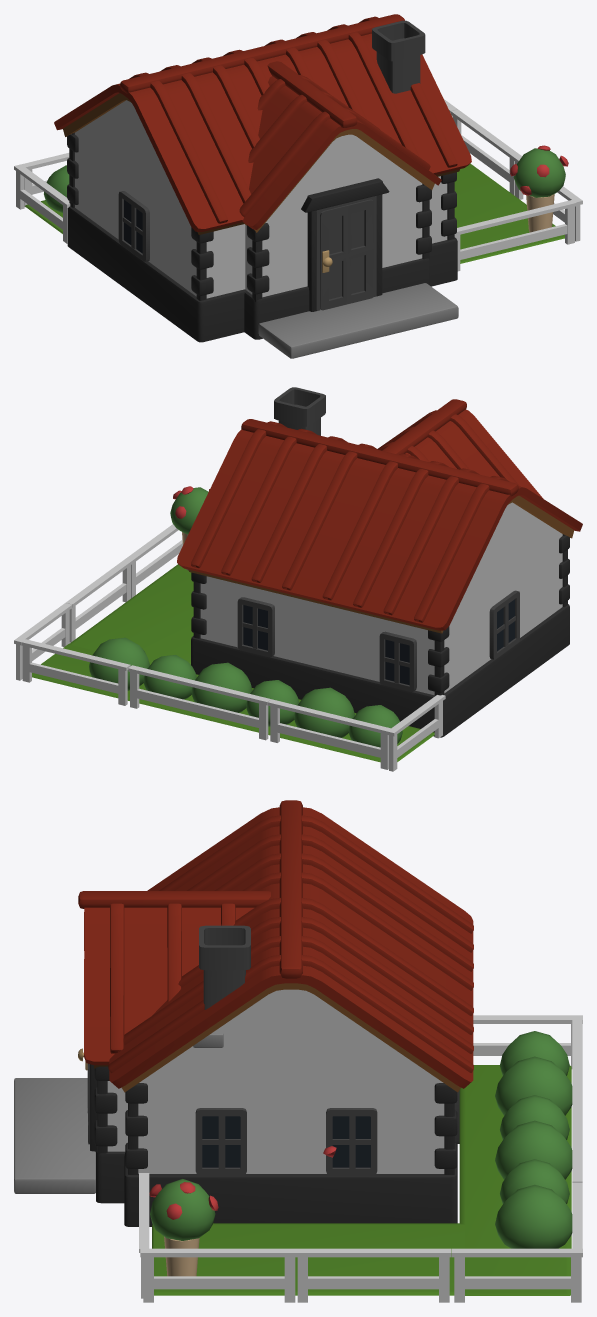
The model's file is SM_house_cute_01.fbx.
3 views of the same model, one above another, from view 1: azimuth 30°, elevation 25°; view 2: azimuth 150°, elevation 25°; view 3: azimuth 270°, elevation 25° (orthographic). The views are drawn at different scales.
Visible parts, largest first — view 1: Box320; view 2: Box320; view 3: Box320.
Boxes of the visible parts, left/top/right/bottom form: Box320: left=14, top=14, right=582, bottom=358; Box320: left=14, top=387, right=582, bottom=771; Box320: left=14, top=800, right=582, bottom=1302.
Size of the model in its own units: 331 by 177 by 328.
